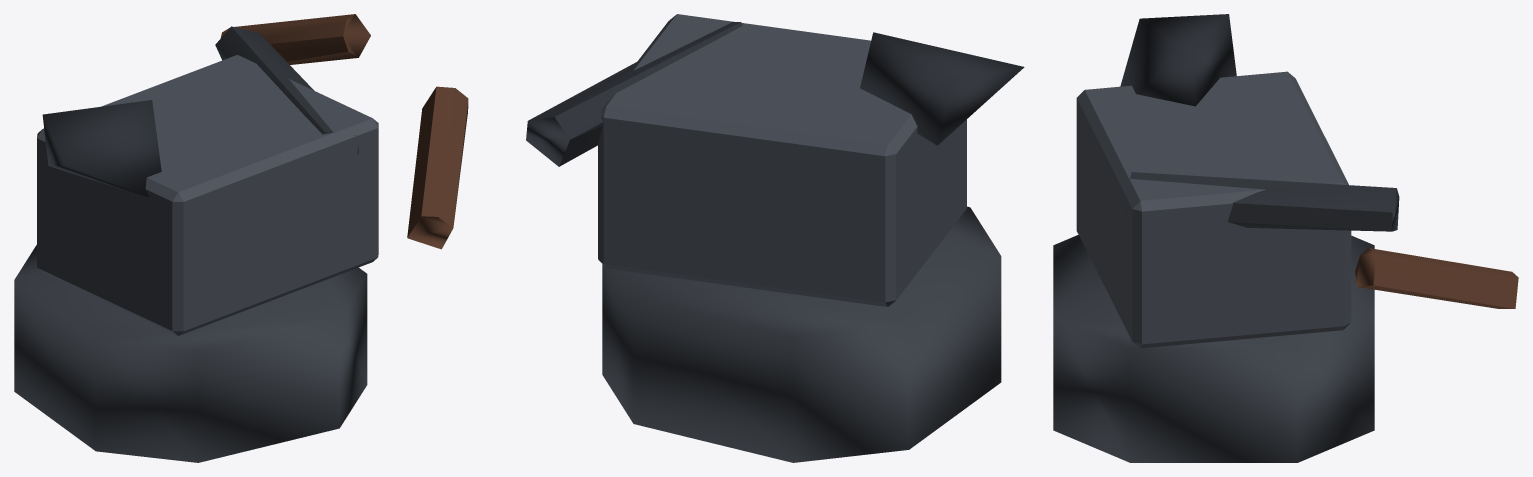
Rendered from broken_turret_lod2.glb.
The picture shows the model from 3 angles, left to right: view 1: azimuth 30°, elevation 25°; view 2: azimuth 150°, elevation 25°; view 3: azimuth 270°, elevation 25°; orthographic projection. The views are drawn at different scales.
Parts seen in each view (by area): view 1: prop.broken_turret; view 2: prop.broken_turret; view 3: prop.broken_turret.
Part boxes in pixels (x1,y1,x2,y2): prop.broken_turret: (14, 14, 378, 462); prop.broken_turret: (407, 14, 1024, 462); prop.broken_turret: (1053, 14, 1518, 462).
Bounding box in the file's own units: 1.52 × 1.08 × 1.43.
